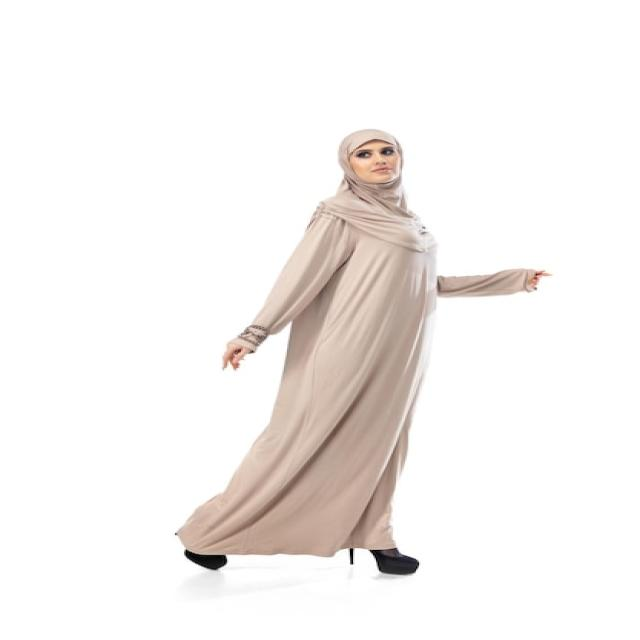Person: (174, 128, 550, 575)
